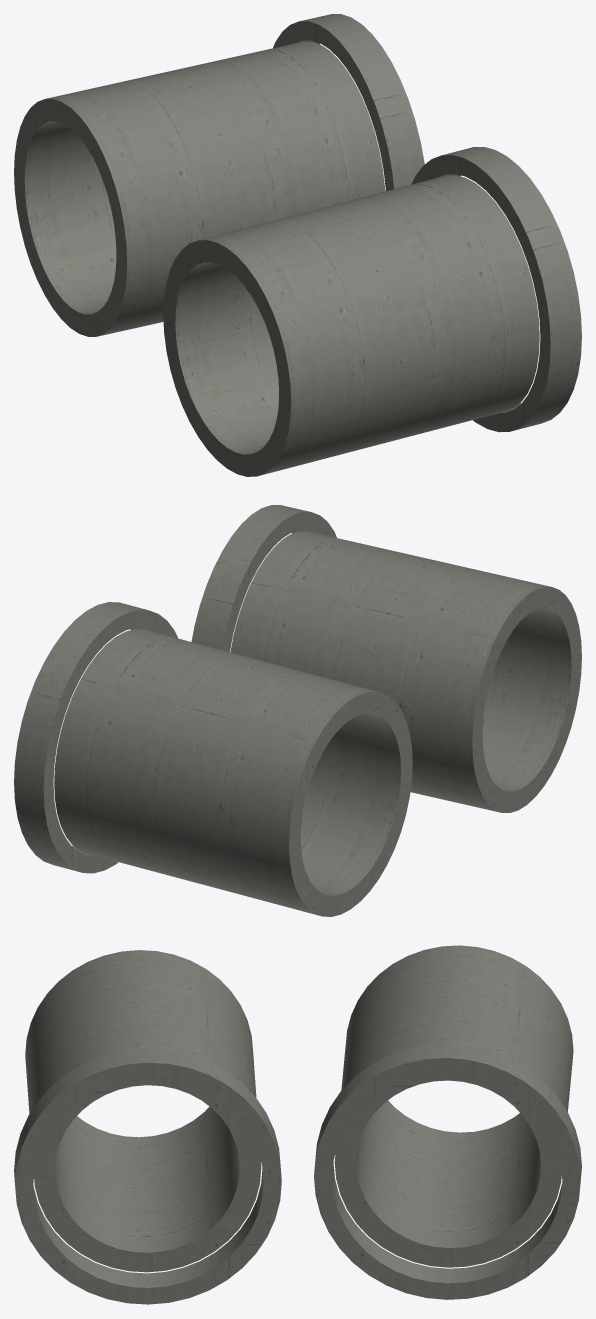
File: HID-DRN-002_anim.glb
The picture shows the model from 3 angles, top to bottom: view 1: azimuth 30°, elevation 25°; view 2: azimuth 150°, elevation 25°; view 3: azimuth 270°, elevation 25°; orthographic projection. The views are drawn at different scales.
Visible parts, largest first — view 1: HID-DRN-002_anim0, HID-DRN-002_anim1; view 2: HID-DRN-002_anim1, HID-DRN-002_anim0; view 3: HID-DRN-002_anim1, HID-DRN-002_anim0.
Boxes of the visible parts, x1,y1,x2,y2 form: HID-DRN-002_anim0: (163, 147, 581, 476); HID-DRN-002_anim1: (14, 14, 424, 336); HID-DRN-002_anim1: (14, 602, 412, 916); HID-DRN-002_anim0: (191, 505, 581, 812); HID-DRN-002_anim1: (314, 945, 581, 1299); HID-DRN-002_anim0: (14, 950, 281, 1304).
Bounding box in the file's own units: 1.08 × 0.906 × 1.84.
1 material, 1 textured.
